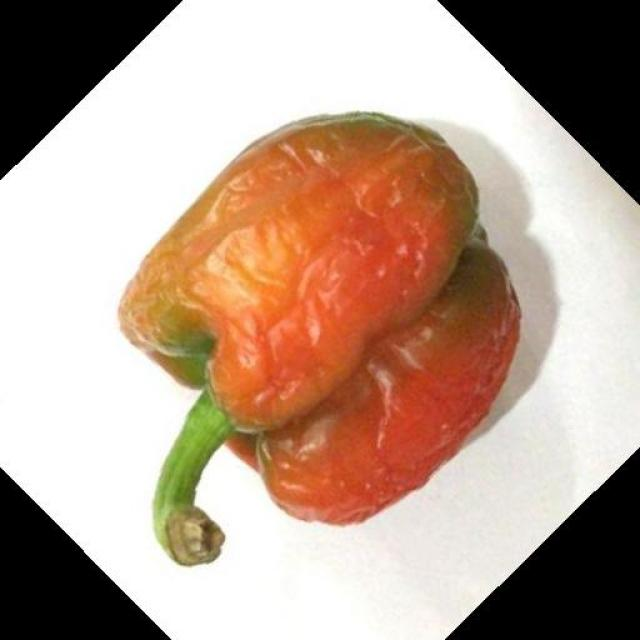Stale_Capsicum: (121, 100, 533, 538)
